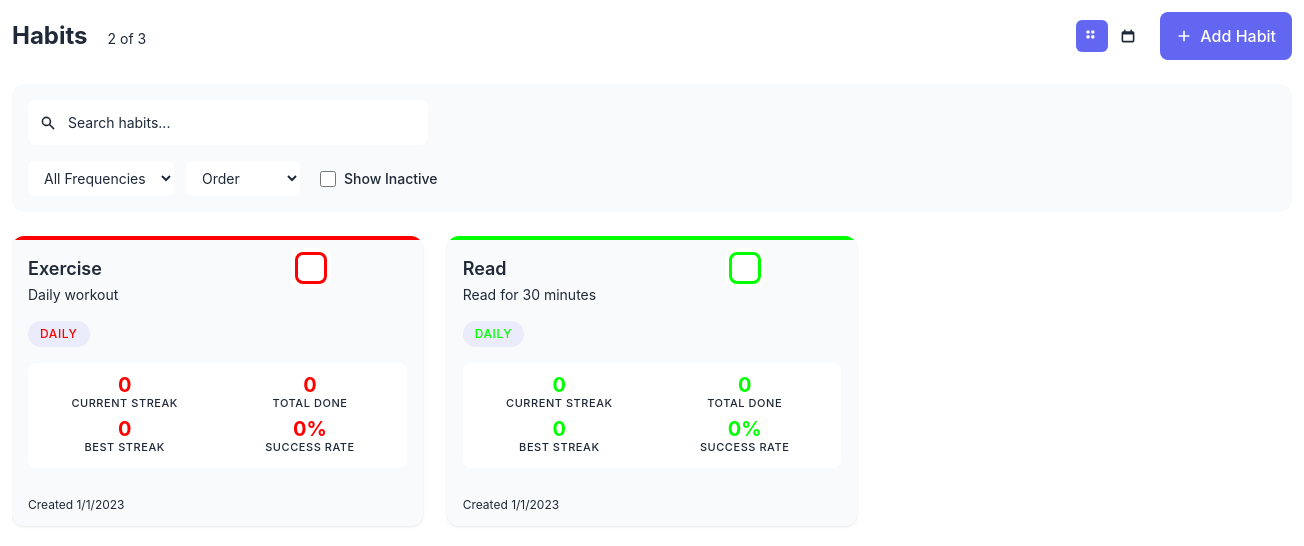
Test: HabitList › Filter Functionality › should show clear filters button when filters are active
The image size is (1304, 546).
Select "Daily" in the 1st dropdown showing "All Frequencies" at (101, 178), box [28,161,174,196]
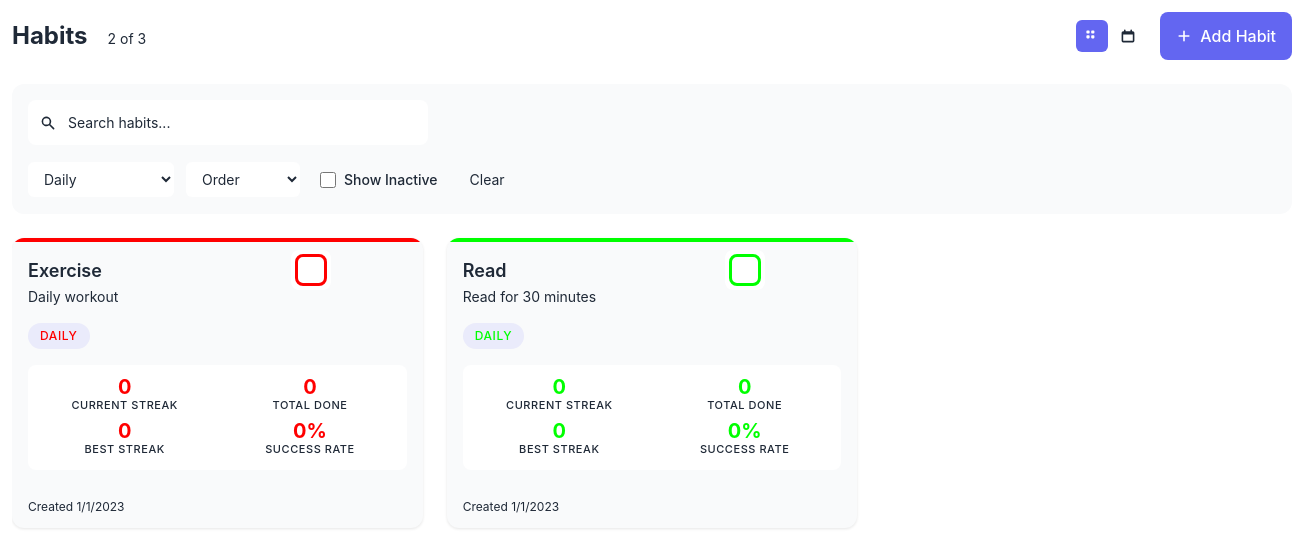
Now the button "Clear" is shown, box [458,161,517,198]
